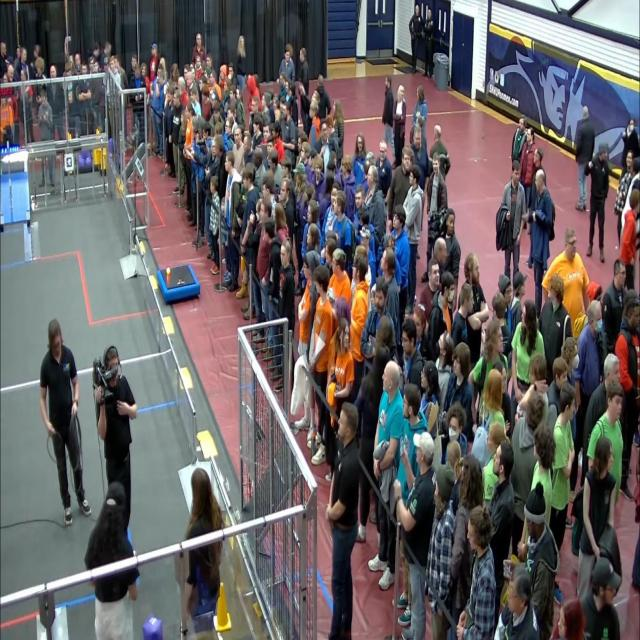frc_cone: (214, 584, 232, 633), (93, 144, 98, 169), (102, 153, 106, 174), (99, 146, 103, 160)
frc_cube: (142, 614, 164, 640), (76, 158, 86, 178), (83, 146, 92, 162), (84, 162, 92, 175)
